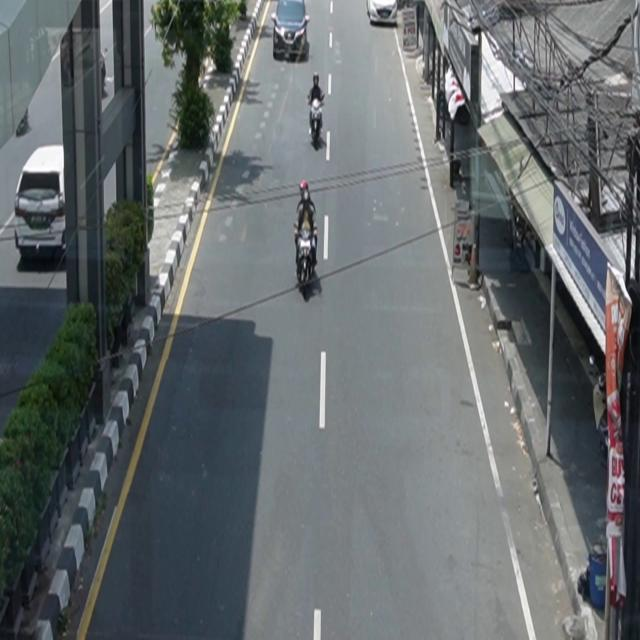car: (271, 1, 311, 61), (366, 1, 398, 26)
truck: (14, 144, 67, 263)
